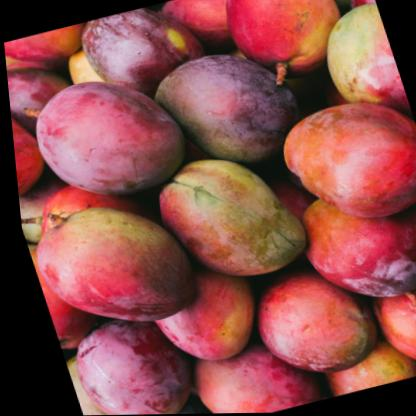--: (4, 48, 200, 216), (129, 140, 317, 296), (14, 182, 194, 344), (256, 89, 416, 243)
